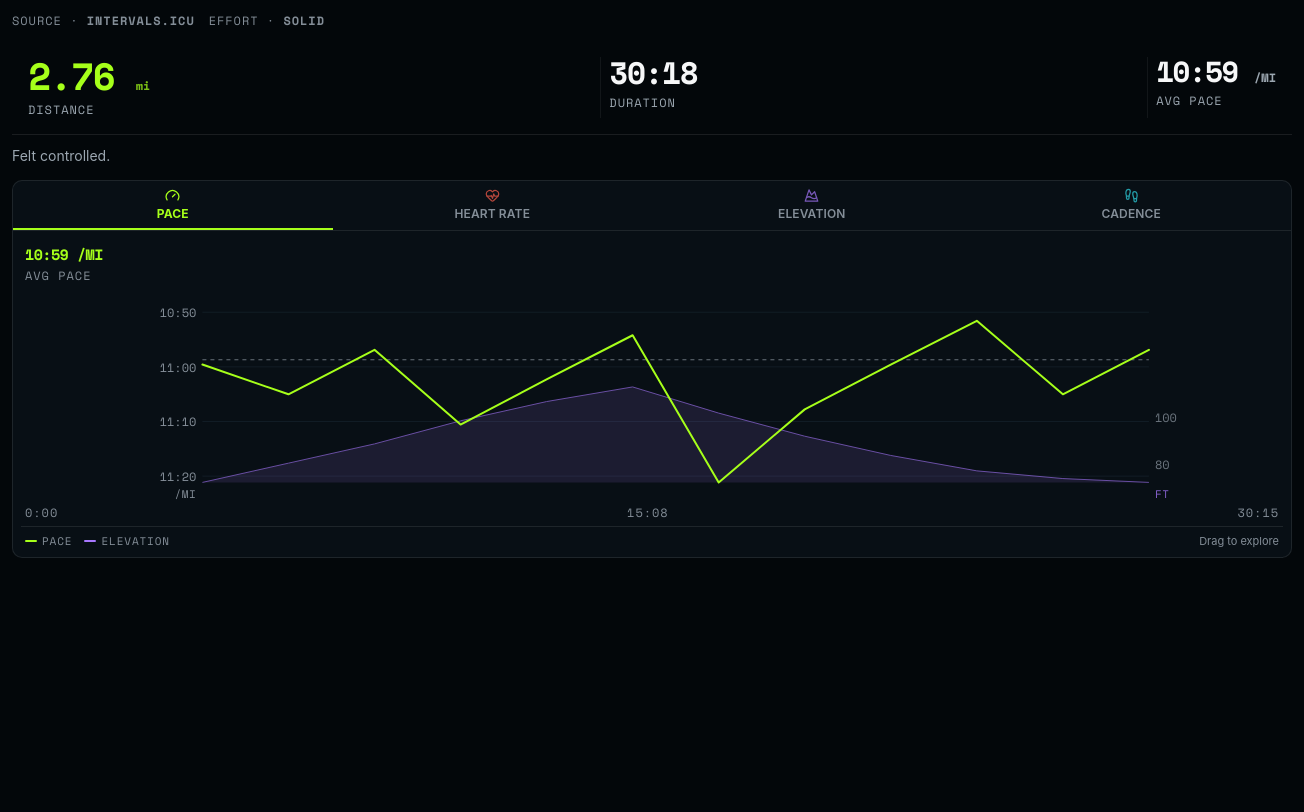
Test case: connected run result › gives every source aggregate exactly one home
// Heart rate states its average and its maximum, and only there.
Click the button "Heart Rate".
click(492, 205)  # box [332,181,652,230]
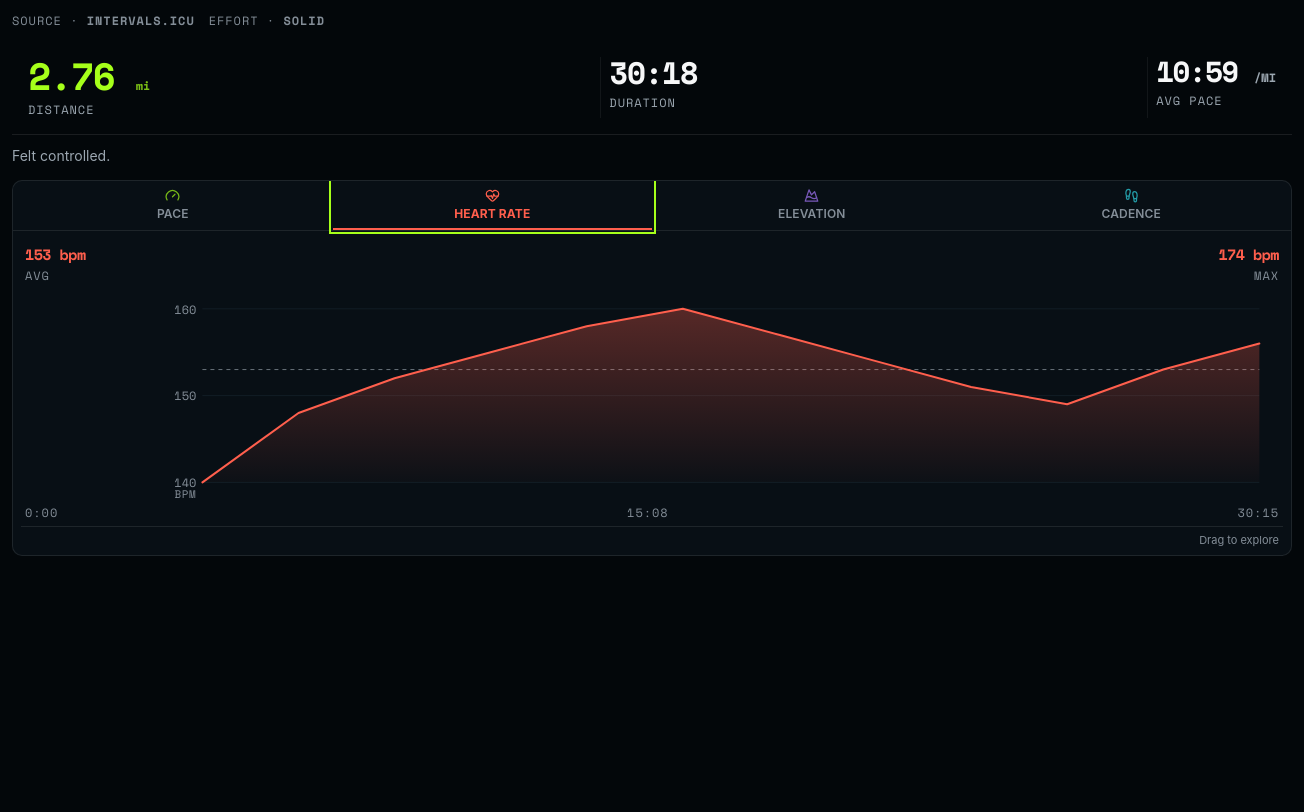
Expected: the element with class "run-analysis__facts" shows "Avg", [25,267,50,284]
Expected: the element with class "run-analysis__facts" shows "Max", [1254,267,1279,284]
// Cadence states the source's own average, verbatim and unitless.
Click the button "Cadence".
click(1131, 205)  # box [972,181,1291,230]
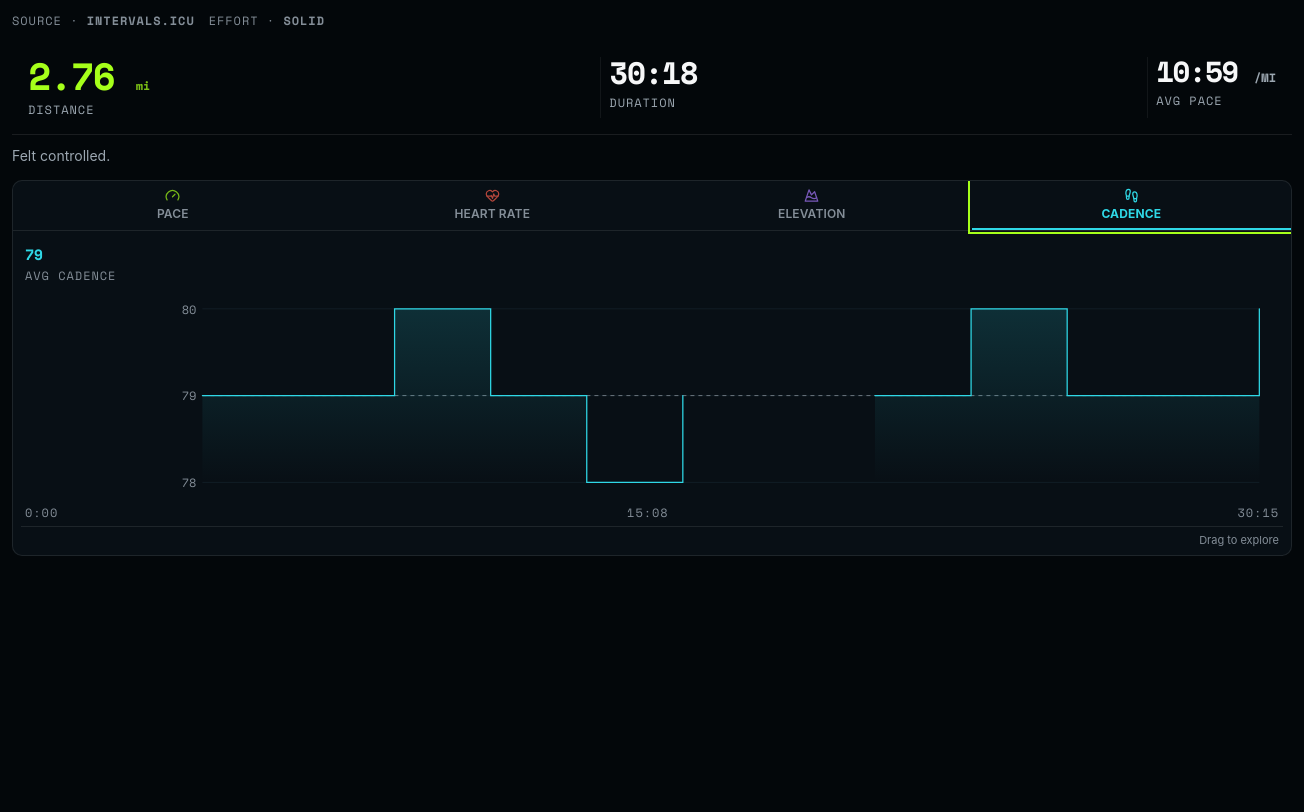
Expected: the element with class "run-analysis__facts" shows "79", [25,243,42,265]
